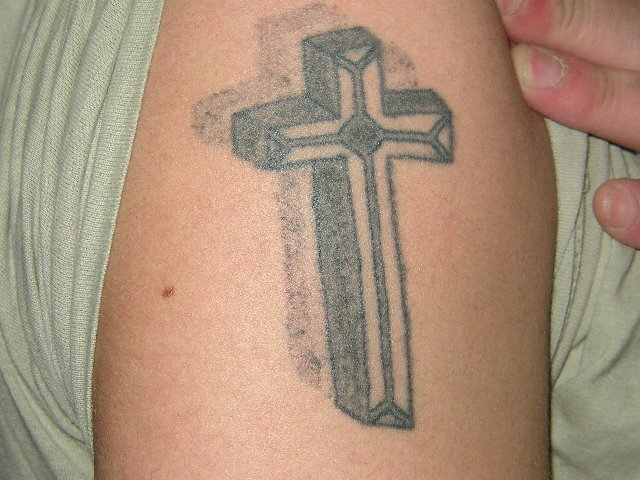tatu9_krest: (201, 3, 480, 450)
